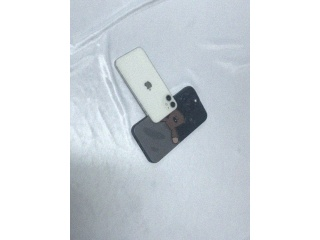phone: (131, 85, 209, 164), (113, 46, 180, 124)
